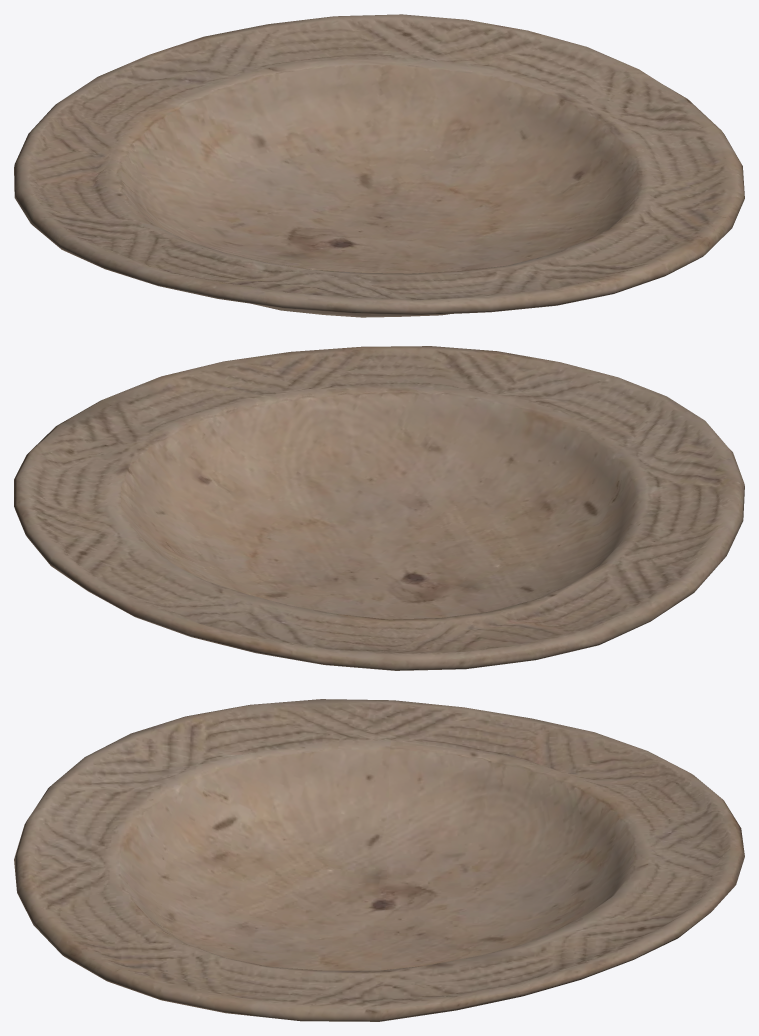
File: plate-0-near.glb
3 views of the same model, one above another, from view 1: azimuth 30°, elevation 25°; view 2: azimuth 150°, elevation 25°; view 3: azimuth 270°, elevation 25° (orthographic). The views are drawn at different scales.
Visible parts, largest first — view 1: carved_wooden_plate; view 2: carved_wooden_plate; view 3: carved_wooden_plate.
Part boxes in pixels (x1=…): carved_wooden_plate: x1=14, y1=14, x2=744, y2=317; carved_wooden_plate: x1=14, y1=346, x2=744, y2=670; carved_wooden_plate: x1=14, y1=699, x2=744, y2=1021.
Bounding box in the file's own units: 0.29 × 0.0405 × 0.2867.
Materials: 1 (1 with a texture image).
